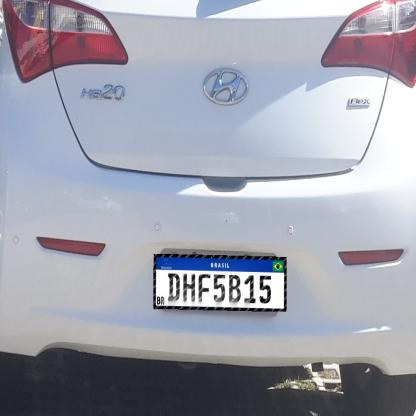PlacaM: (154, 254, 286, 311)
